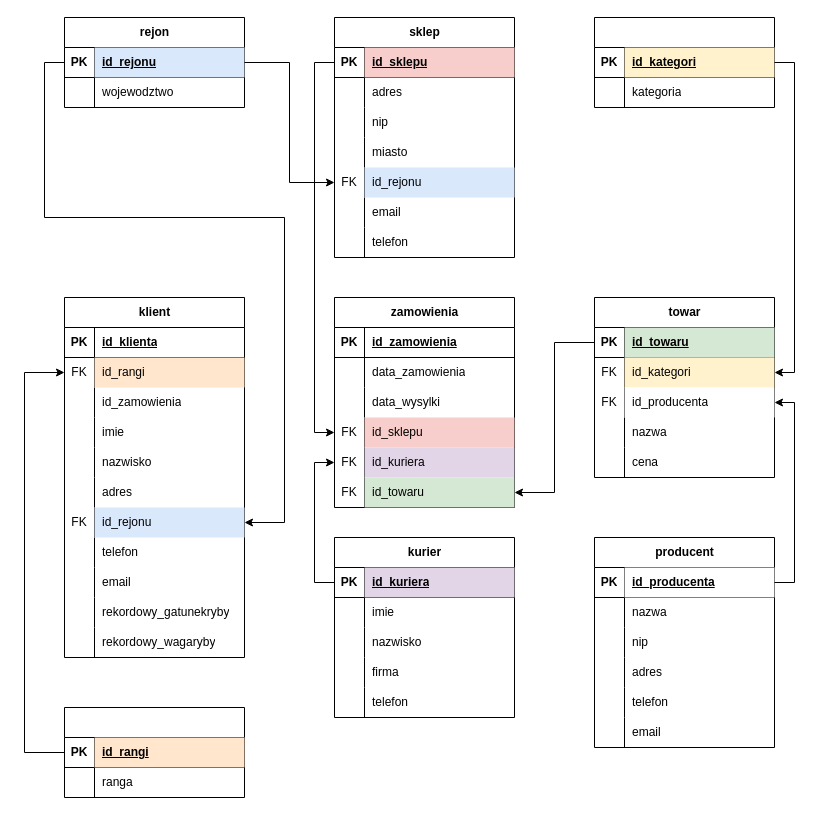
This 820x815 diagram has some shape labels left out. Each missing label, with the box of its shape:
kategoria_towaru: (594, 16, 774, 108)
ranga_klienta: (64, 706, 244, 798)
